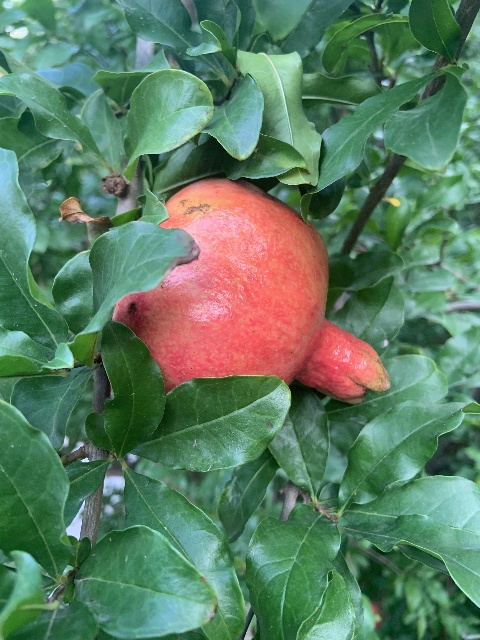ripe: (109, 177, 389, 403)
